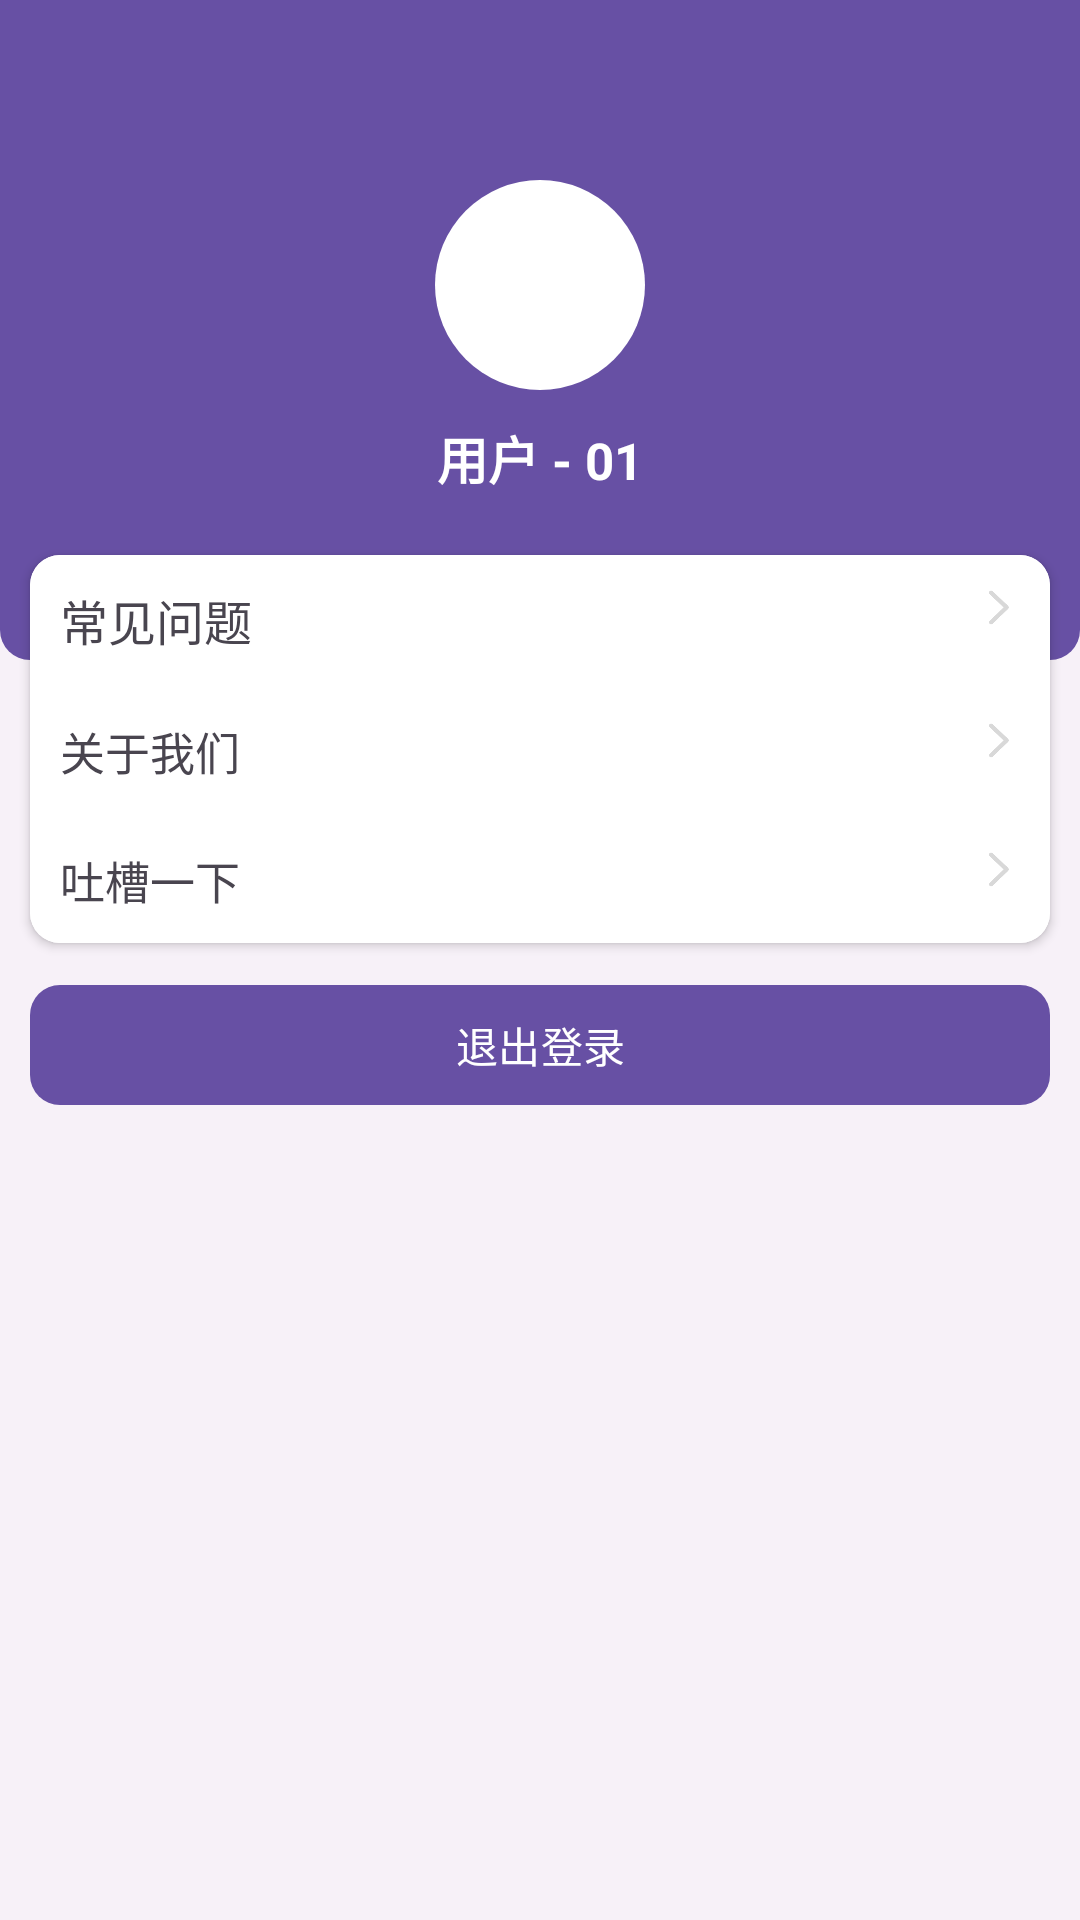

Icon bounding boxes for this 1080 × 1920 phone screenshot, format (x1, y1, x2, y2):
youjiantou: (989, 591, 1009, 624), (989, 724, 1009, 757), (989, 853, 1009, 886)
